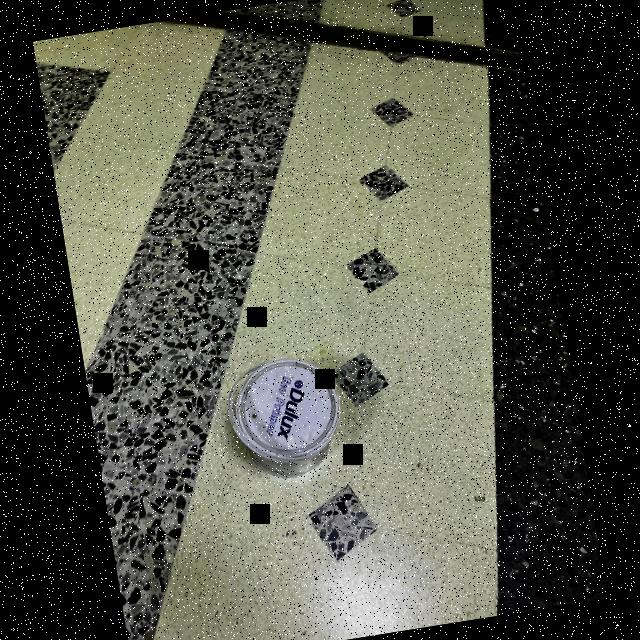paint_bucket: (208, 346, 352, 490)
